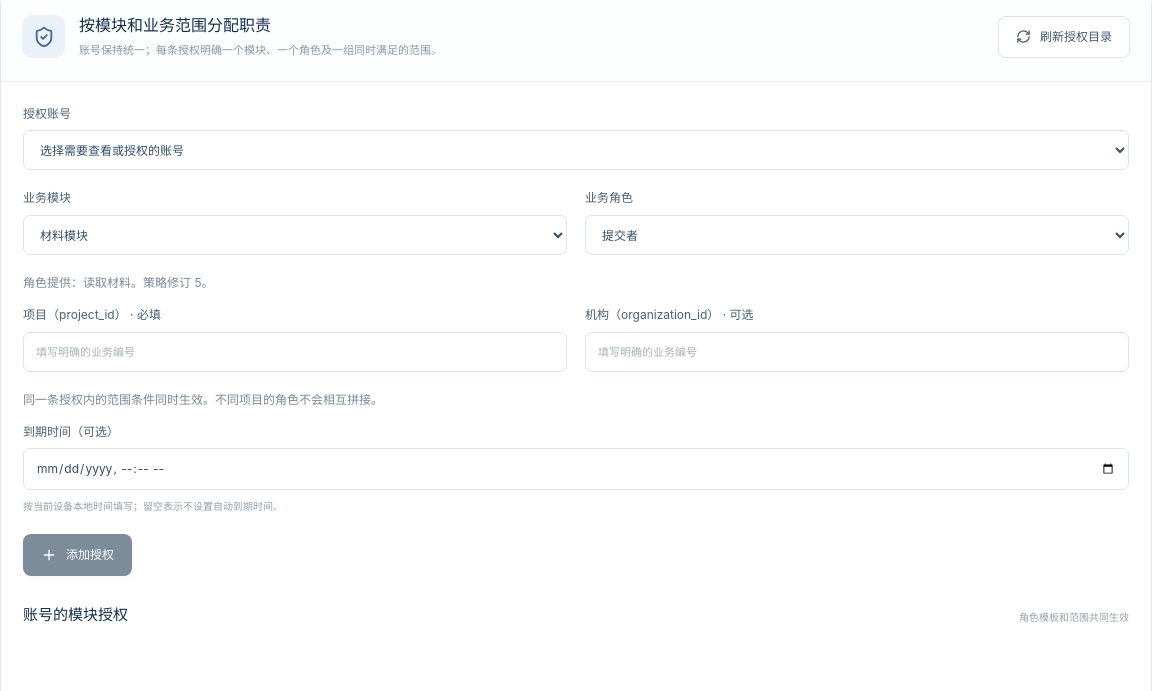
it: 模块范围授权管理 › 较晚返回的旧账号错误不会污染新账号的列表和错误提示
Select "用户甲（alpha）" in the dropdown labelled "授权账号" at [576, 150], box [23,130,1129,170]
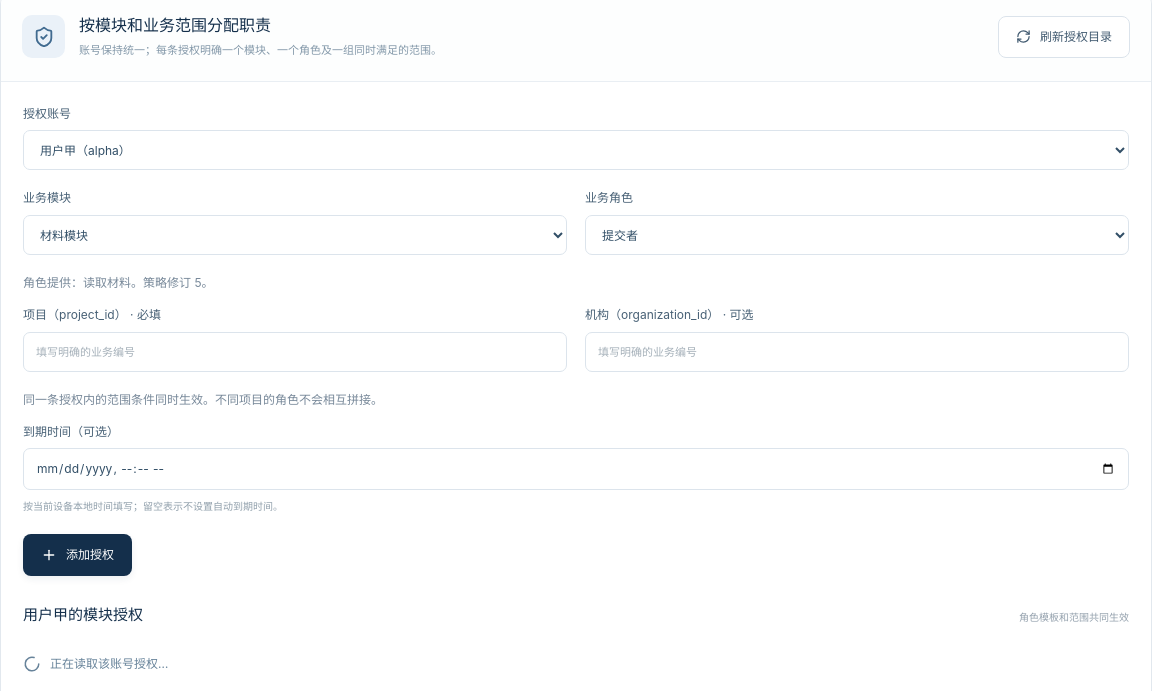
Select "用户乙（beta）" in the dropdown labelled "授权账号" at [576, 150], box [23,130,1129,170]
(page scrolled)
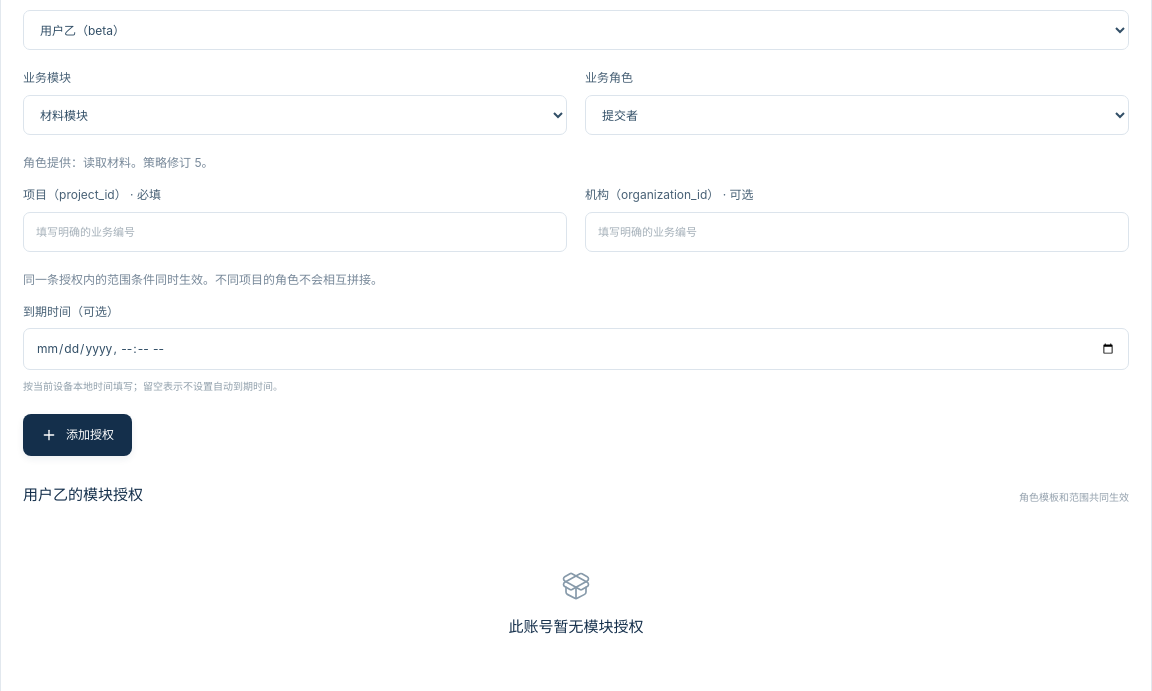
Expected: the heading "此账号暂无模块授权" is shown, [508,617,644,636]
